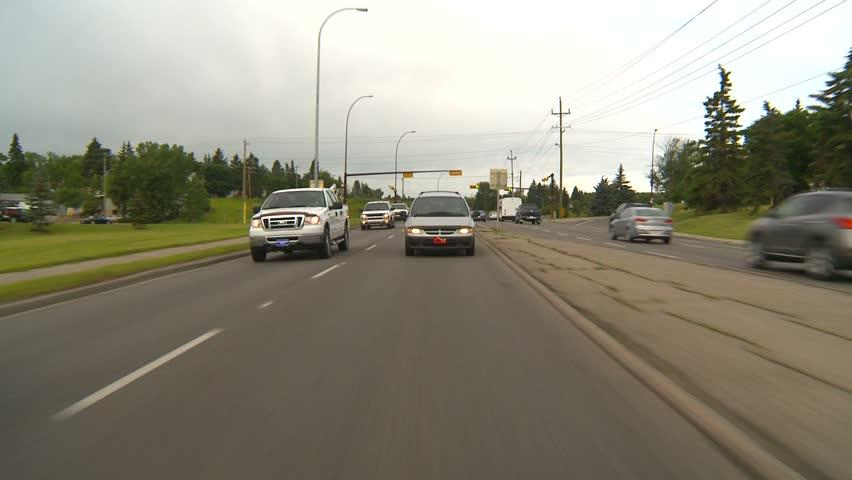car: (748, 189, 852, 283), (248, 187, 351, 264), (399, 190, 481, 257), (608, 207, 673, 244), (609, 203, 653, 233), (360, 200, 395, 230), (497, 196, 523, 222), (513, 203, 542, 224), (1, 206, 35, 223), (386, 202, 411, 221), (79, 215, 112, 227), (470, 209, 486, 222), (487, 211, 500, 220)
